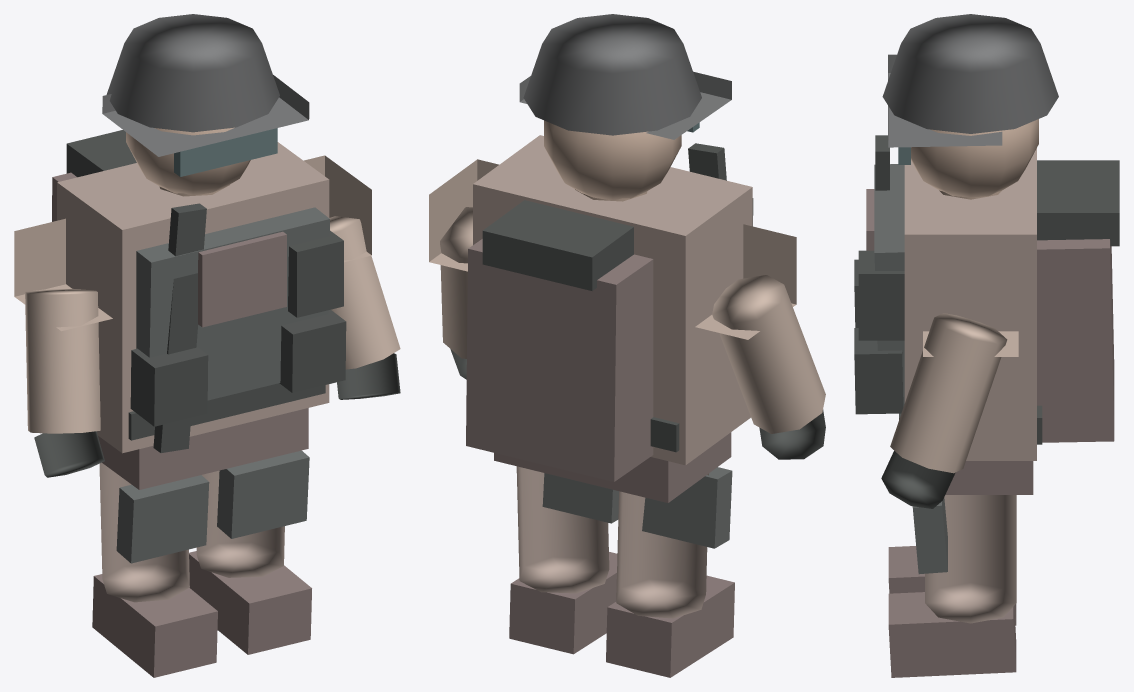
The model's file is character-enemy.glb.
The picture shows the model from 3 angles, left to right: view 1: azimuth 30°, elevation 25°; view 2: azimuth 150°, elevation 25°; view 3: azimuth 270°, elevation 25°; orthographic projection. The views are drawn at different scales.
Parts seen in each view (by area): view 1: character-merged-uniform, character-merged-uniformDark, character-merged-strap, character-merged-armor, character-merged-uniformLight, character-merged-helmet, character-merged-skin, character-merged-lens; view 2: character-merged-uniformDark, character-merged-uniform, character-merged-uniformLight, character-merged-helmet, character-merged-strap, character-merged-armor, character-merged-skin; view 3: character-merged-uniform, character-merged-uniformDark, character-merged-helmet, character-merged-strap, character-merged-uniformLight, character-merged-skin, character-merged-armor.
Part boxes in pixels (x1=…): character-merged-uniform: x1=57, y1=142, x2=329, y2=602; character-merged-uniformDark: x1=52, y1=172, x2=311, y2=677; character-merged-strap: x1=34, y1=130, x2=400, y2=477; character-merged-armor: x1=116, y1=207, x2=329, y2=563; character-merged-uniformLight: x1=14, y1=155, x2=400, y2=433; character-merged-helmet: x1=102, y1=14, x2=309, y2=156; character-merged-skin: x1=126, y1=127, x2=250, y2=196; character-merged-lens: x1=174, y1=128, x2=277, y2=176; character-merged-uniformDark: x1=466, y1=239, x2=734, y2=677; character-merged-uniform: x1=473, y1=135, x2=752, y2=618; character-merged-uniformLight: x1=429, y1=159, x2=825, y2=433; character-merged-helmet: x1=519, y1=14, x2=731, y2=139; character-merged-strap: x1=450, y1=143, x2=825, y2=459; character-merged-armor: x1=542, y1=198, x2=753, y2=548; character-merged-skin: x1=544, y1=120, x2=681, y2=201; character-merged-uniform: x1=904, y1=148, x2=1036, y2=623; character-merged-uniformDark: x1=866, y1=189, x2=1114, y2=677; character-merged-helmet: x1=882, y1=14, x2=1058, y2=147; character-merged-strap: x1=854, y1=135, x2=1119, y2=508; character-merged-uniformLight: x1=890, y1=313, x2=1018, y2=473; character-merged-skin: x1=911, y1=119, x2=1038, y2=199; character-merged-armor: x1=874, y1=164, x2=947, y2=574.
Bounding box in the file's own units: 1.17 × 1.79 × 0.7218.
